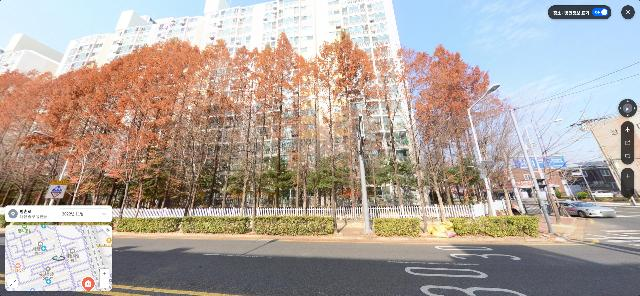other: (97, 40, 195, 220), (2, 48, 101, 205), (236, 32, 307, 229), (306, 30, 372, 233), (148, 39, 221, 215), (416, 46, 483, 230), (509, 96, 607, 220), (202, 39, 254, 216), (389, 48, 436, 232), (363, 45, 407, 219)
